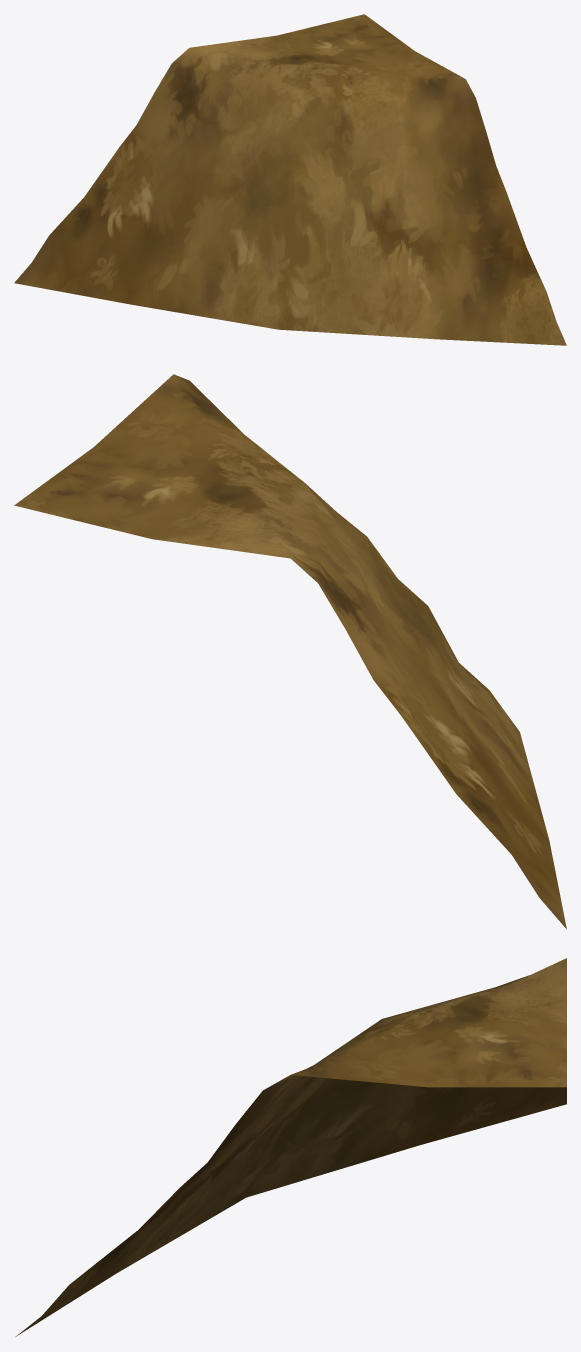
Rendered from Levelled_Slope_Corner_005.fbx.
3 renders of one model, top to bottom at view 1: azimuth 30°, elevation 25°; view 2: azimuth 150°, elevation 25°; view 3: azimuth 270°, elevation 25°, orthographic. The views are drawn at different scales.
Visible parts, largest first — view 1: Levelled_Slope_Corner_005; view 2: Levelled_Slope_Corner_005; view 3: Levelled_Slope_Corner_005.
Part boxes in pixels (<box>): Levelled_Slope_Corner_005: <box>14,14,566,345</box>; Levelled_Slope_Corner_005: <box>14,374,566,929</box>; Levelled_Slope_Corner_005: <box>15,958,566,1336</box>.
Bounding box in the file's own units: 10 × 5.25 × 10.
Materials: 1 (1 with a texture image).
